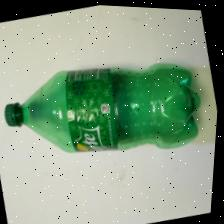plastic: (8, 62, 202, 156)
